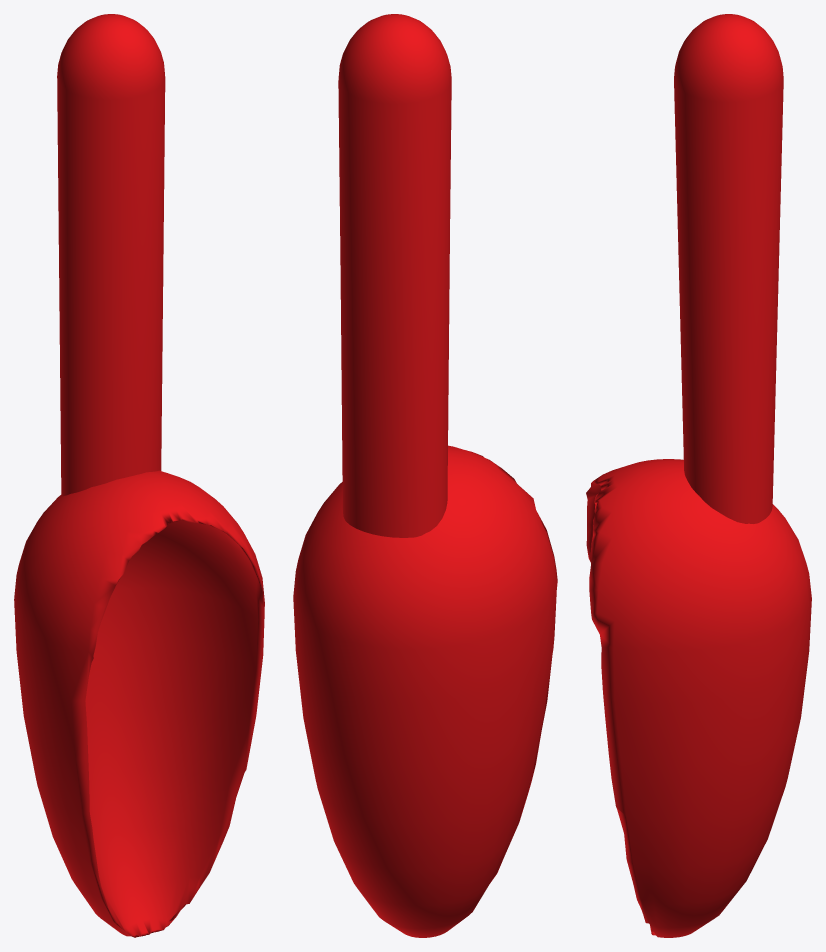
File: Sand Scoop.fbx
3 views of the same model, side by side, from view 1: azimuth 30°, elevation 25°; view 2: azimuth 150°, elevation 25°; view 3: azimuth 270°, elevation 25° (orthographic). The views are drawn at different scales.
Visible parts, largest first — view 1: Sand Scoop; view 2: Sand Scoop; view 3: Sand Scoop.
Boxes of the visible parts, box(x1,y1,x2,y2) form: Sand Scoop: box(14, 14, 264, 937); Sand Scoop: box(293, 14, 557, 937); Sand Scoop: box(586, 14, 811, 937).
Bounding box in the file's own units: 3.74 × 15.15 × 3.39.
